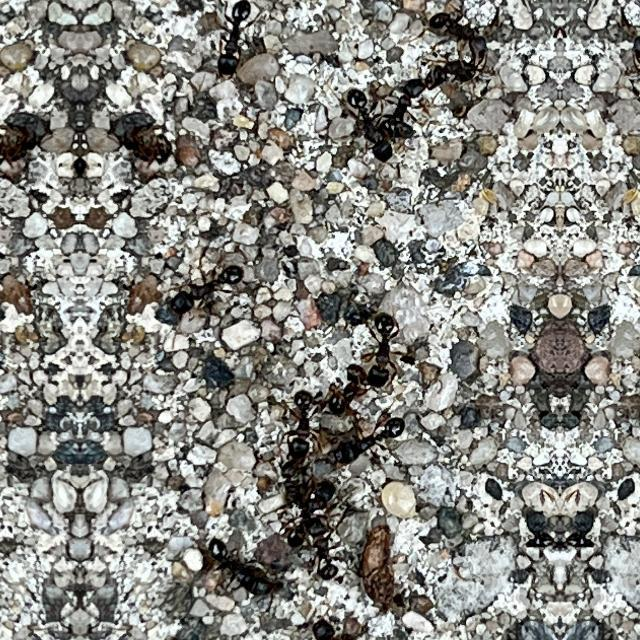Tetramorium: (162, 248, 248, 332), (328, 79, 410, 167), (188, 0, 280, 74), (391, 48, 495, 106), (331, 414, 413, 486), (420, 0, 512, 62), (322, 356, 361, 429), (606, 0, 640, 62)
